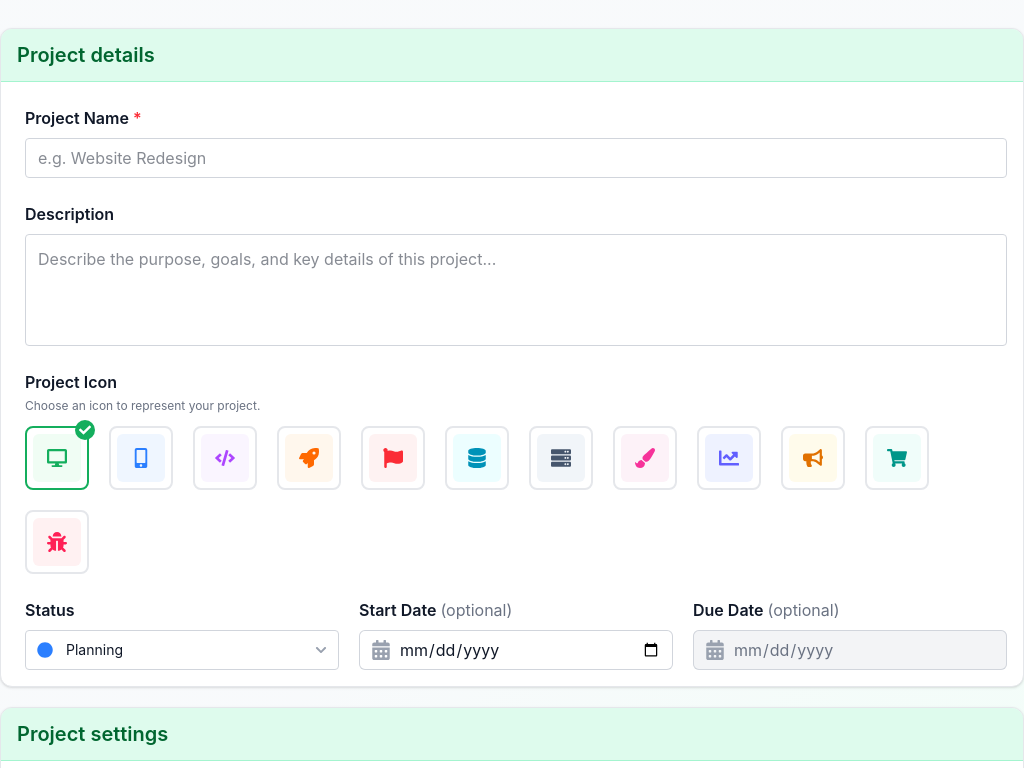
Test: ProjectForm › keeps due date disabled until start date is selected and clears it when start date is removed
This screenshot has width=1024, height=768.
Expected: the date field labelled "Due Date (optional)" is disabled, [693,630,1007,670]
Type "2026-10-10" into the date field labelled "Start Date (optional)" at (516, 650), box [359,630,673,670]
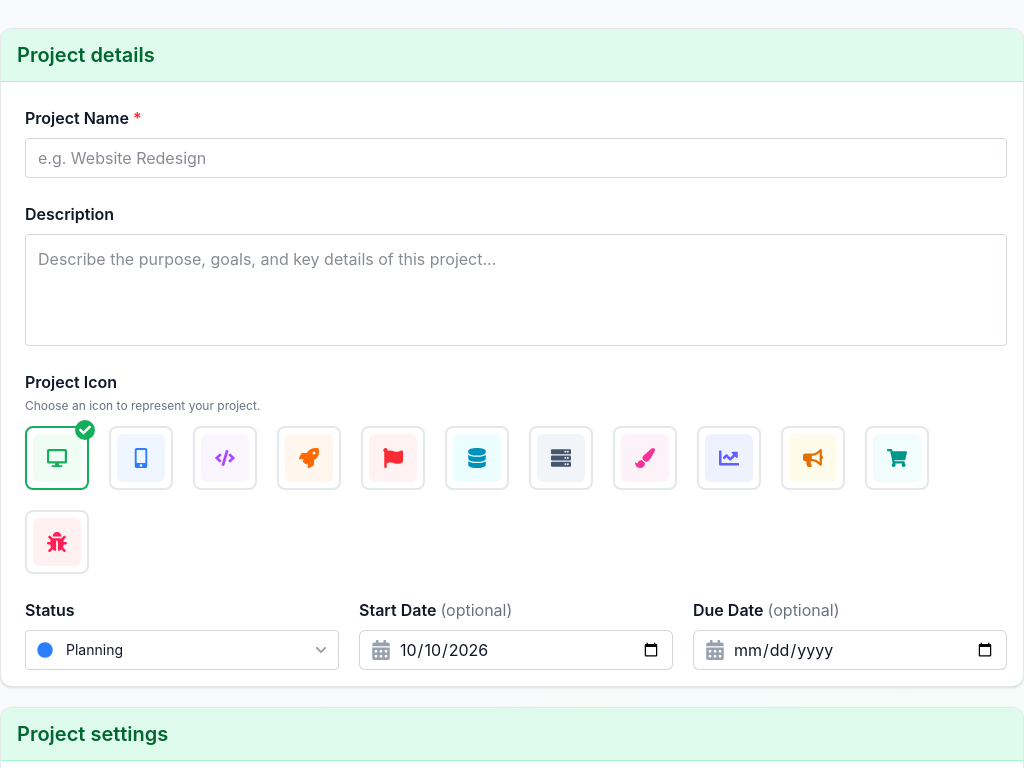
Result: the date field labelled "Due Date (optional)" is enabled
Type "2026-10-20" into the date field labelled "Due Date (optional)" at (850, 650), box [693,630,1007,670]
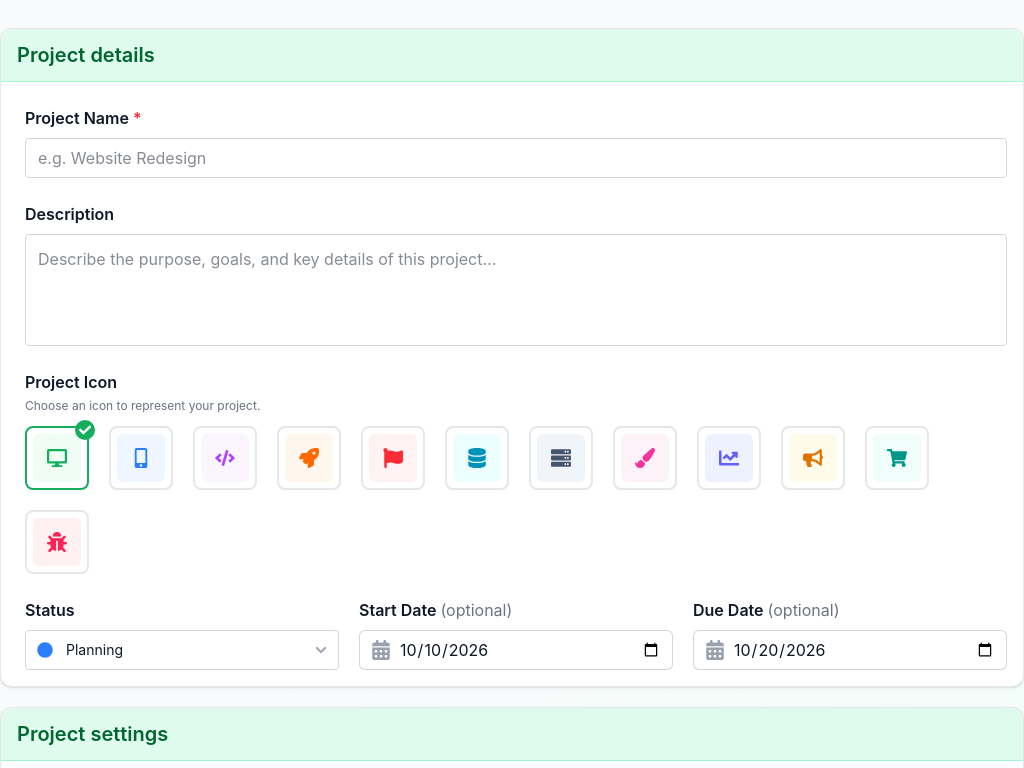
Clear the date field labelled "Start Date (optional)" at (516, 650), box [359,630,673,670]
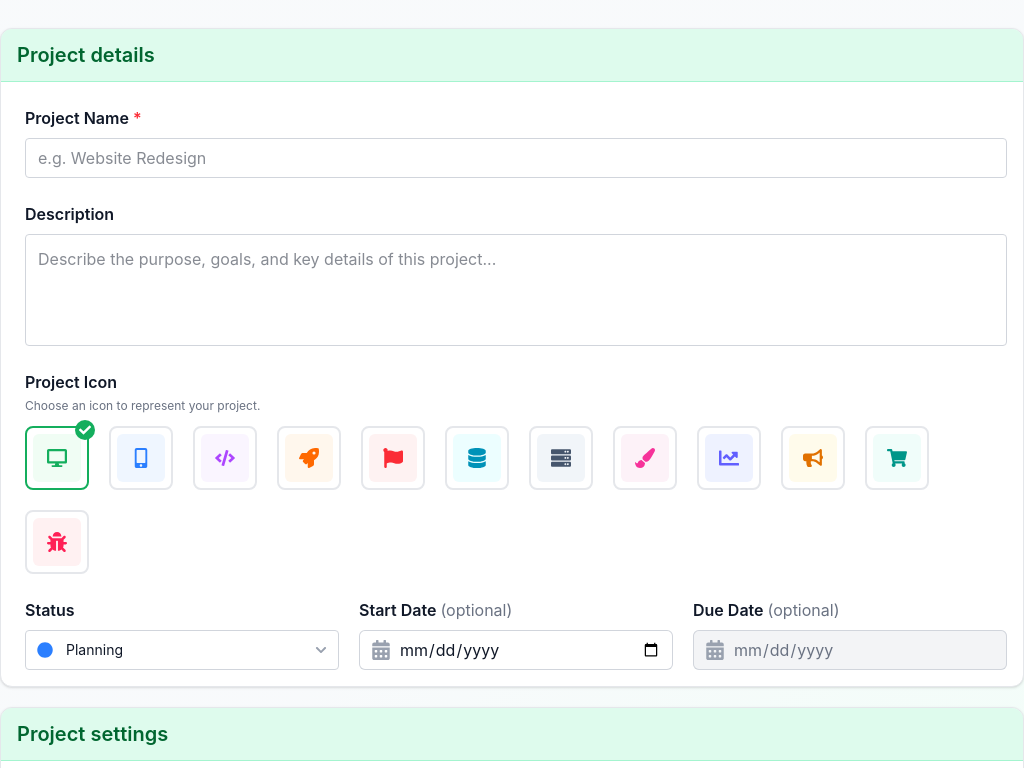
Result: the date field labelled "Due Date (optional)" is disabled at [693,630,1007,670]
Result: the date field labelled "Due Date (optional)" is empty at [693,630,1007,670]
